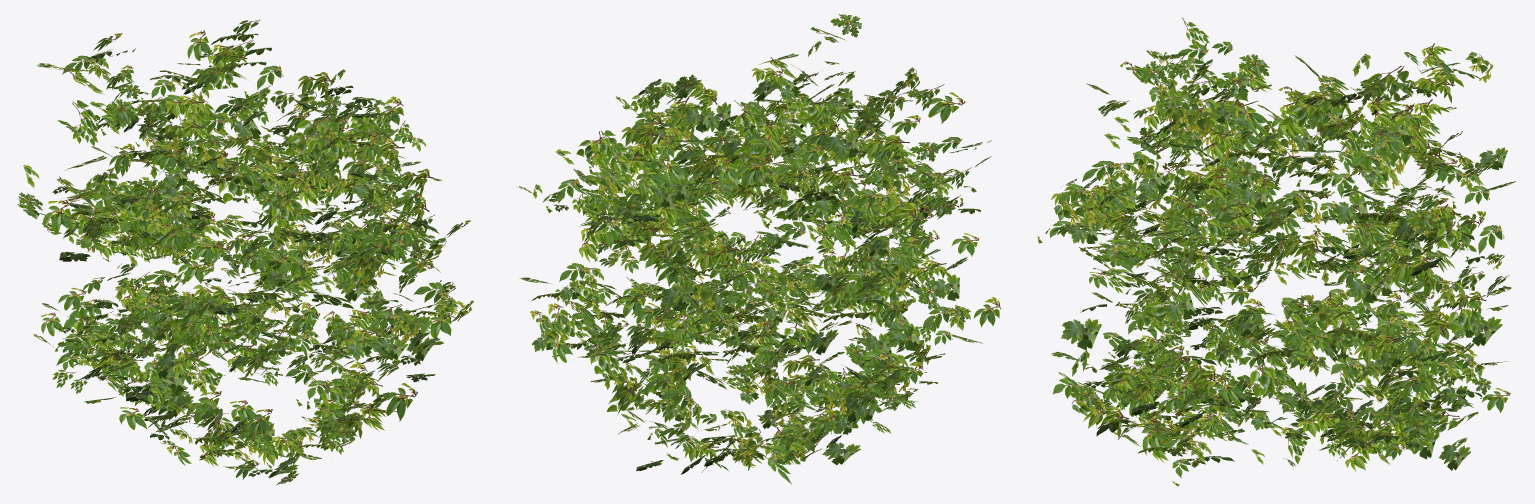
The model's file is leaf_2.fbx.
The picture shows the model from 3 angles, left to right: view 1: azimuth 30°, elevation 25°; view 2: azimuth 150°, elevation 25°; view 3: azimuth 270°, elevation 25°; orthographic projection. The views are drawn at different scales.
Visible parts, largest first — view 1: leaf_2; view 2: leaf_2; view 3: leaf_2.
Boxes of the visible parts, x1,y1,x2,y2 form: leaf_2: [17, 19, 473, 485]; leaf_2: [516, 14, 1000, 484]; leaf_2: [1037, 17, 1515, 486].
Size of what is drawn, in the model's own units: 4.96 by 4.2 by 4.76.
Materials: 1 (1 with a texture image).
